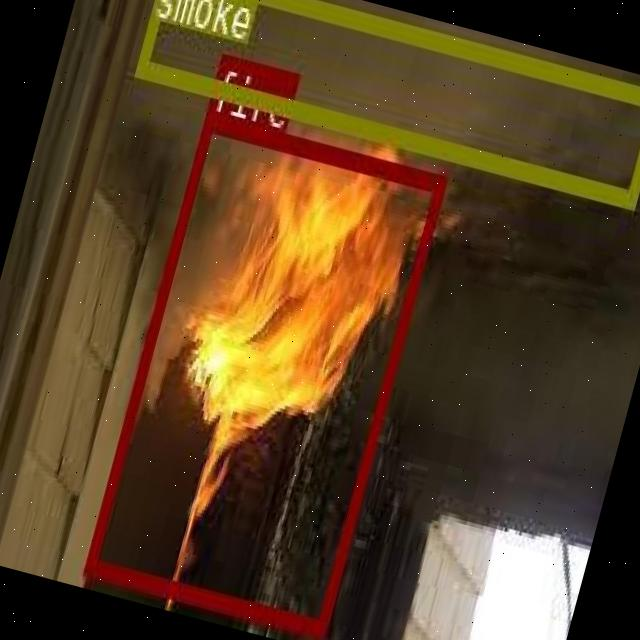fire: (84, 108, 448, 634)
smoke: (133, 0, 640, 203)
